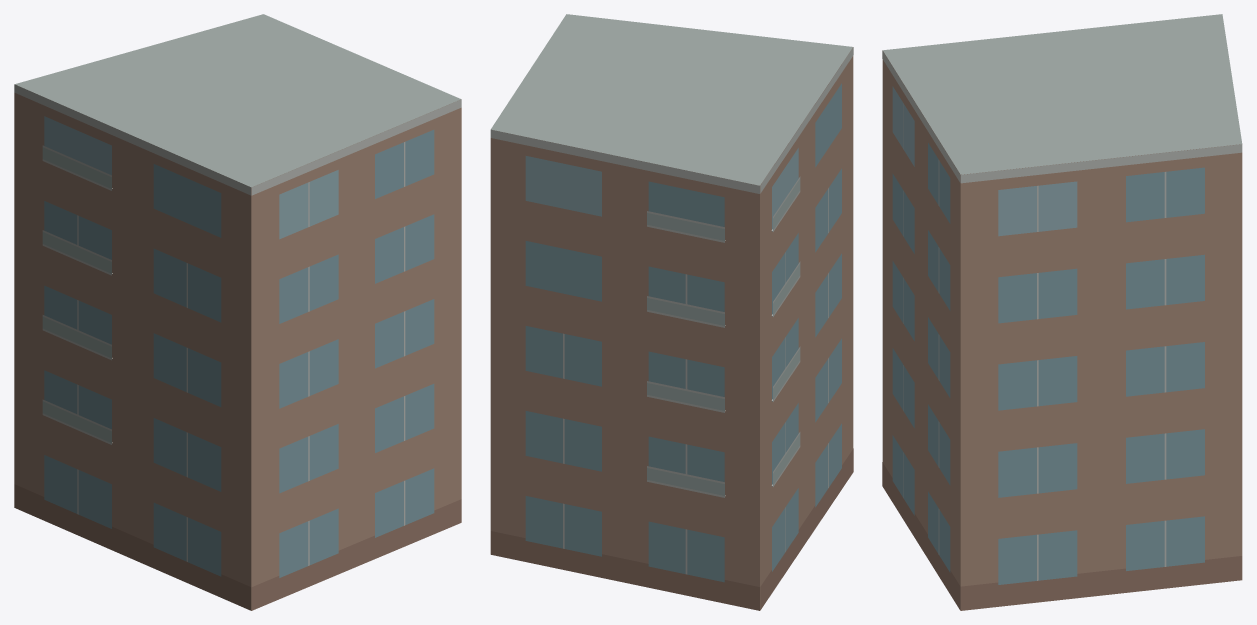
Rendered from survey-upis-32640693.glb.
3 views of the same model, side by side, from view 1: azimuth 30°, elevation 25°; view 2: azimuth 150°, elevation 25°; view 3: azimuth 270°, elevation 25° (orthographic). The views are drawn at different scales.
Visible parts, largest first — view 1: survey-upis-32640693.tmp; view 2: survey-upis-32640693.tmp; view 3: survey-upis-32640693.tmp.
Part boxes in pixels (x1,y1,x2,y2): survey-upis-32640693.tmp: [14, 14, 461, 610]; survey-upis-32640693.tmp: [490, 14, 853, 610]; survey-upis-32640693.tmp: [882, 14, 1242, 610].
Bounding box in the file's own units: 9.82 × 12.4 × 9.28.
